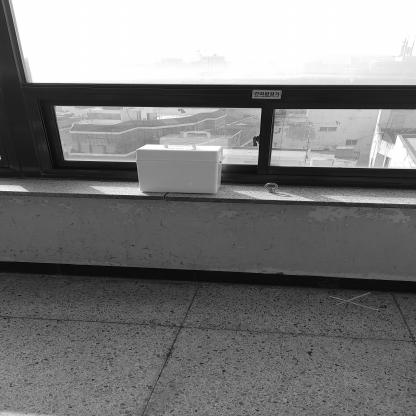DDL: (135, 141, 227, 194)
